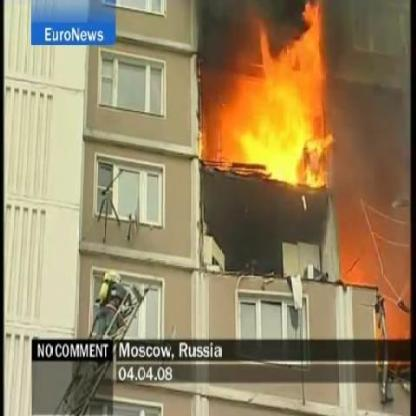fire: (211, 0, 336, 192)
